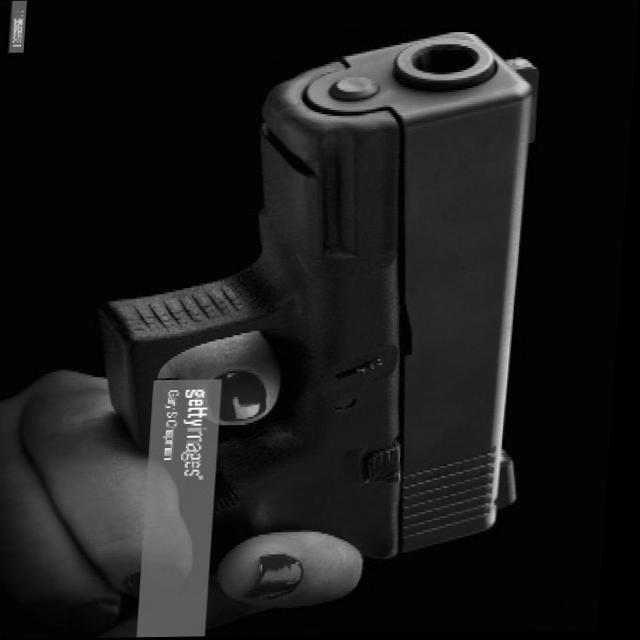handgun: (109, 28, 563, 580)
